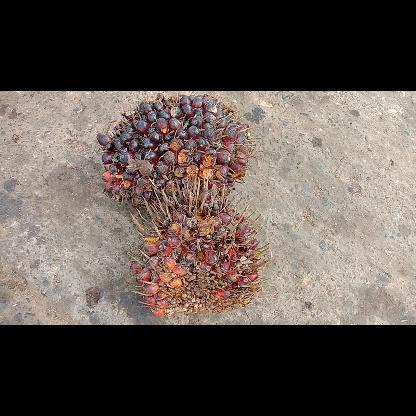Kurang masak: (96, 92, 254, 209)
TBS masak: (128, 177, 268, 315)
